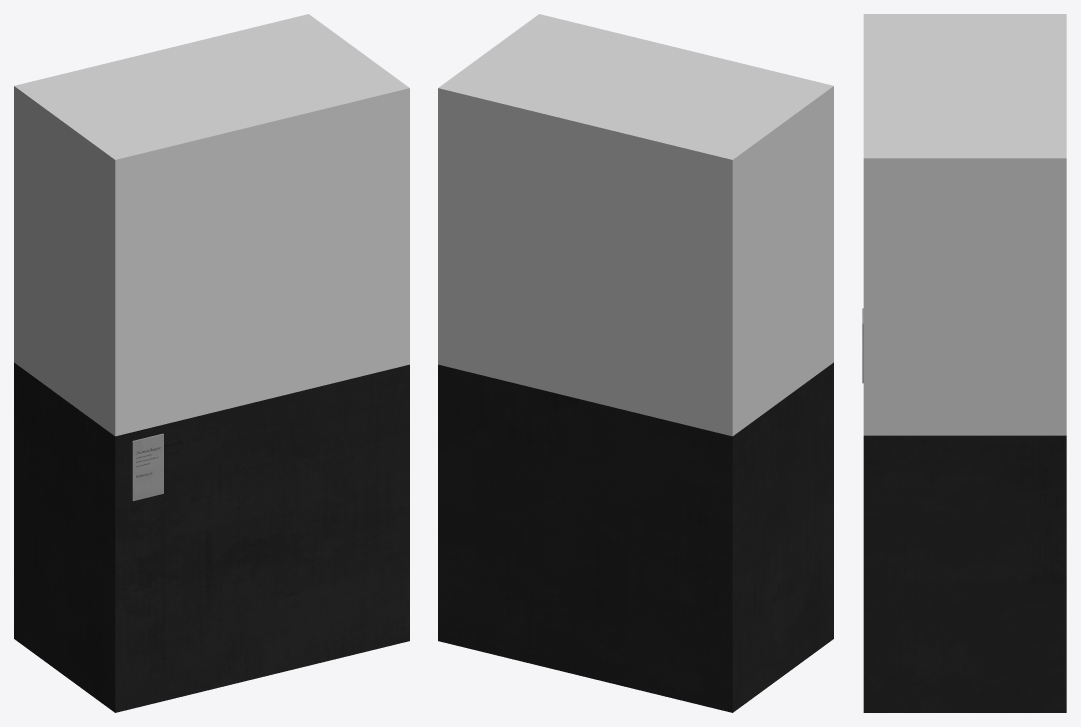
The model's file is Showcasemdl_M.fbx.
3 renders of one model, left to right at view 1: azimuth 30°, elevation 25°; view 2: azimuth 150°, elevation 25°; view 3: azimuth 270°, elevation 25°, orthographic.
Visible parts, largest first — view 1: GlassCase_M2; view 2: GlassCase_M2; view 3: GlassCase_M2.
Boxes of the visible parts, x1,y1,x2,y2 form: GlassCase_M2: (14, 14, 409, 712); GlassCase_M2: (438, 14, 833, 712); GlassCase_M2: (862, 14, 1066, 712).
Bounding box in the file's own units: 51.43 × 92.22 × 30.83.
2 materials, 1 textured.
